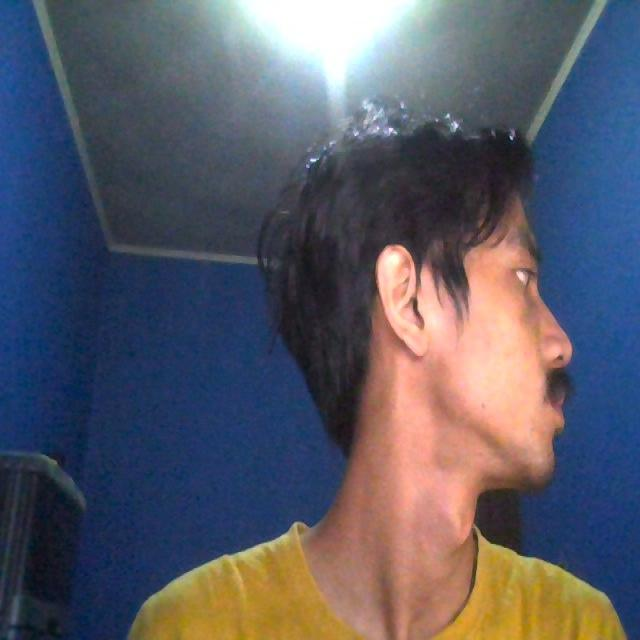melihat kekiri: (209, 82, 581, 500)
